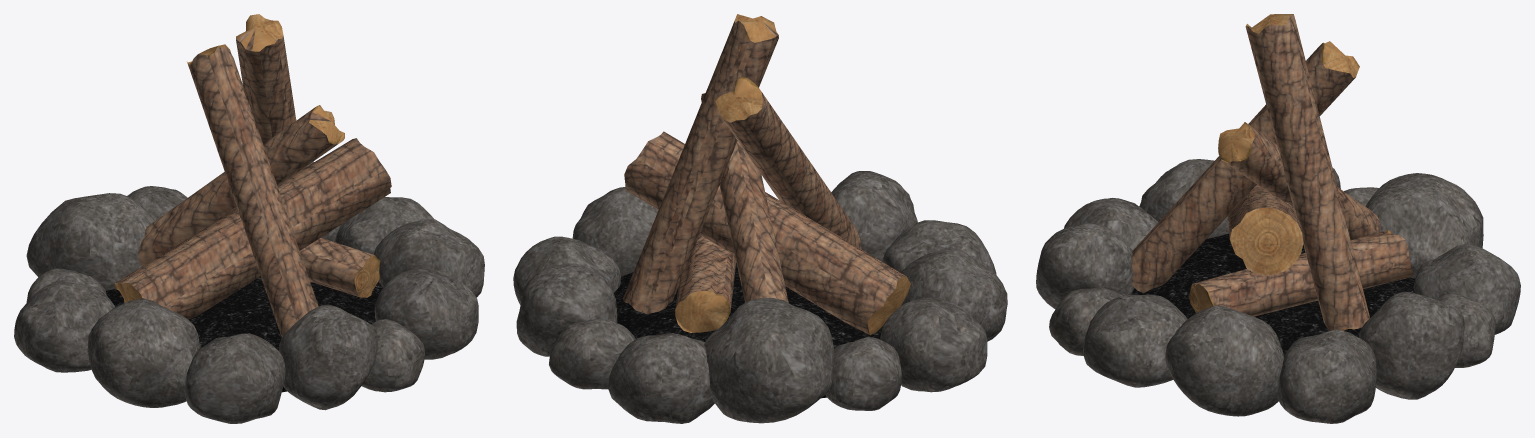
Rendered from Camp+Fire.obj.
3 views of the same model, side by side, from view 1: azimuth 30°, elevation 25°; view 2: azimuth 150°, elevation 25°; view 3: azimuth 270°, elevation 25° (orthographic). The views are drawn at different scales.
Visible parts, largest first — view 1: group6_pasted__pCube2; view 2: group6_pasted__pCube2; view 3: group6_pasted__pCube2.
Part boxes in pixels (<box>): group6_pasted__pCube2: <box>14,14,484,423</box>; group6_pasted__pCube2: <box>513,14,1007,423</box>; group6_pasted__pCube2: <box>1036,14,1520,423</box>.
Bounding box in the file's own units: 2.9 × 2.03 × 2.76.
1 material, 1 textured.
